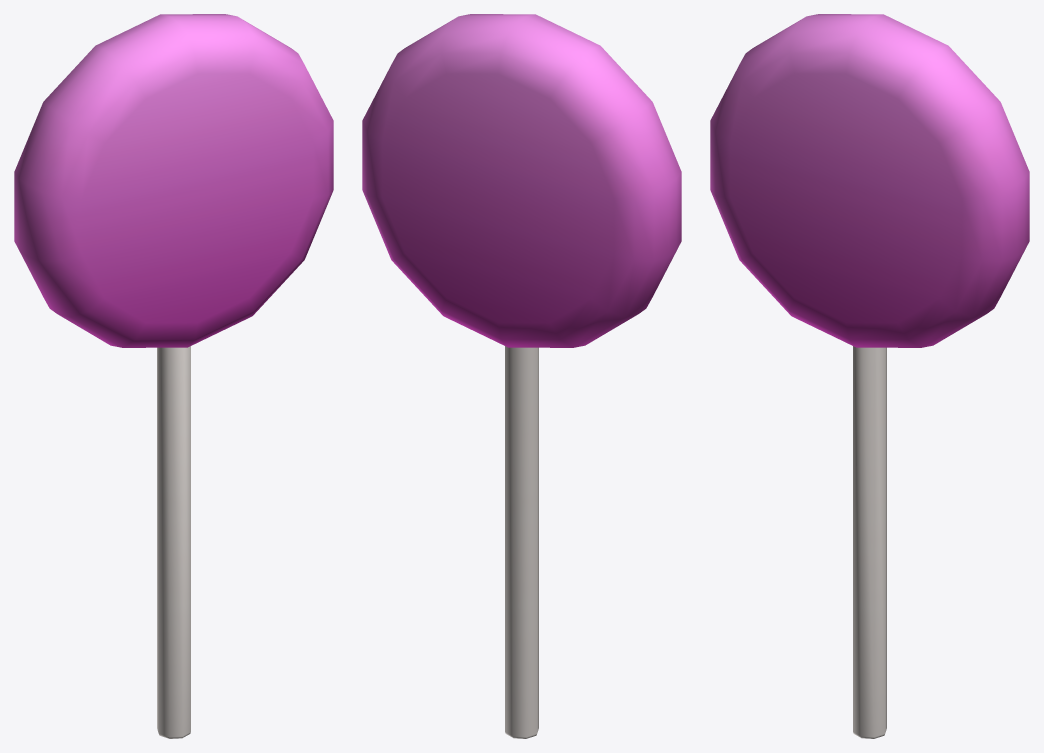
The model's file is candy_glass_7.fbx.
3 views of the same model, side by side, from view 1: azimuth 30°, elevation 25°; view 2: azimuth 150°, elevation 25°; view 3: azimuth 330°, elevation 25° (orthographic).
Visible parts, largest first — view 1: c_g_7; view 2: c_g_7; view 3: c_g_7.
Boxes of the visible parts, x1=… form: c_g_7: x1=14, y1=14, x2=333, y2=738; c_g_7: x1=362, y1=14, x2=681, y2=738; c_g_7: x1=710, y1=14, x2=1029, y2=738.
Size of the model in its own units: 137 by 310 by 37.39.
